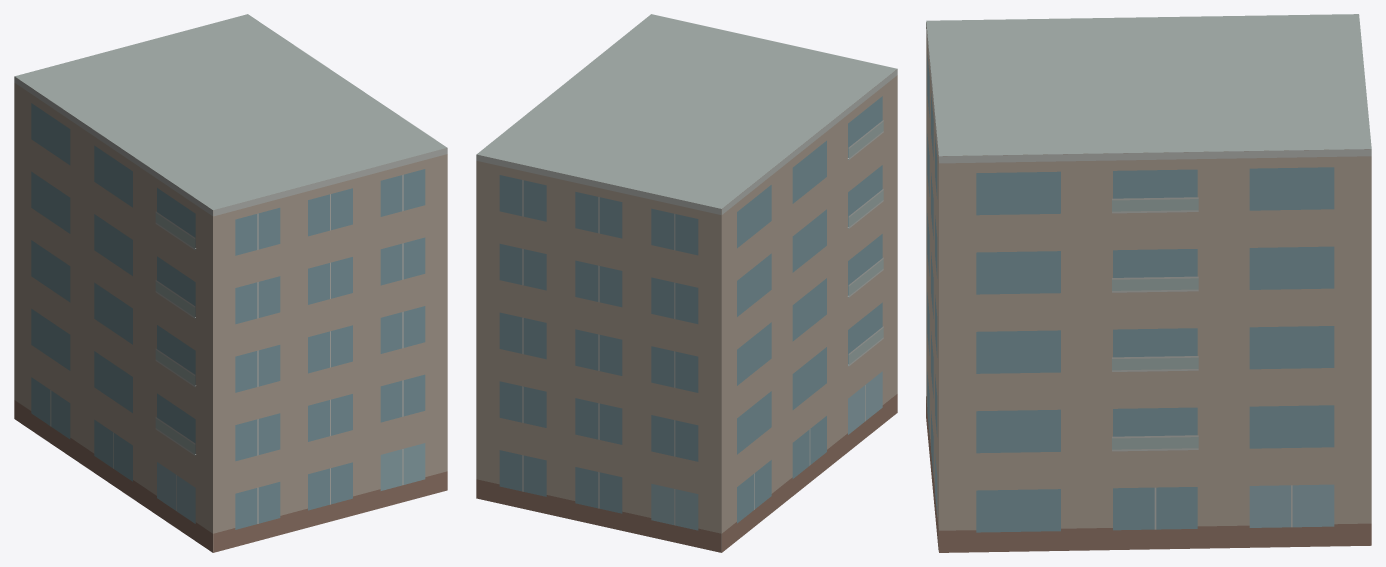
The model's file is survey-upis-32726655.glb.
The picture shows the model from 3 angles, left to right: view 1: azimuth 30°, elevation 25°; view 2: azimuth 150°, elevation 25°; view 3: azimuth 270°, elevation 25°; orthographic projection. The views are drawn at different scales.
Visible parts, largest first — view 1: survey-upis-32726655.tmp; view 2: survey-upis-32726655.tmp; view 3: survey-upis-32726655.tmp.
Part boxes in pixels (x1=…): survey-upis-32726655.tmp: x1=14, y1=14, x2=447, y2=552; survey-upis-32726655.tmp: x1=476, y1=14, x2=897, y2=552; survey-upis-32726655.tmp: x1=926, y1=14, x2=1371, y2=552.
Size of the model in its own units: 10.27 by 13.35 by 13.6.
